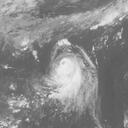cyclone: (49, 54, 97, 108)
